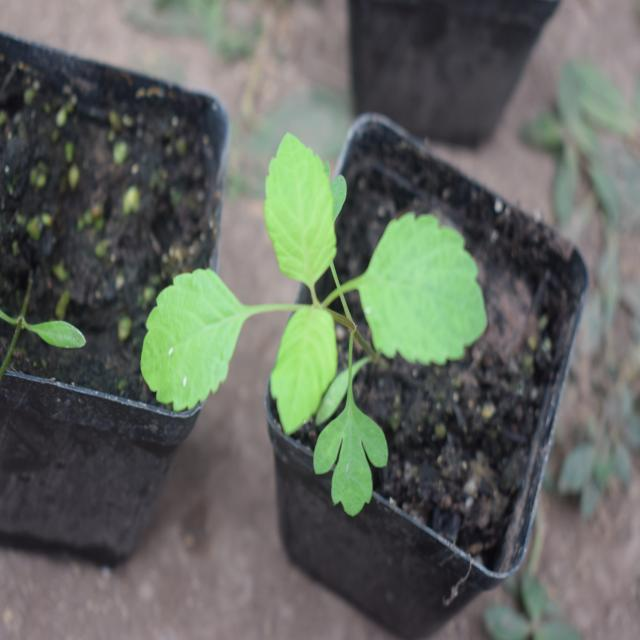Bidens pilosa: (142, 116, 478, 512)
